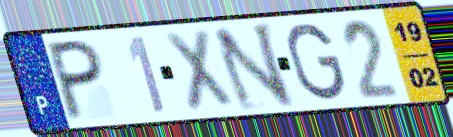1: (125, 33, 167, 116)
2: (340, 16, 405, 101)
G: (284, 21, 348, 104)
N: (209, 20, 297, 114)
P: (46, 37, 105, 124)
X: (161, 26, 238, 115)
